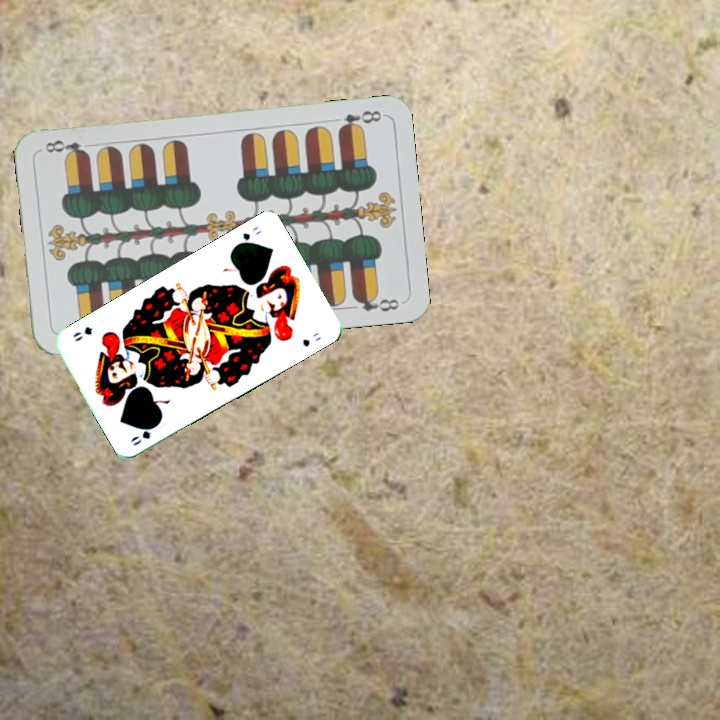E8: (334, 106, 384, 134)
GO: (127, 418, 162, 448), (231, 222, 264, 250)
